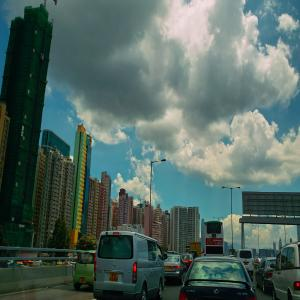Vehicle-registration-plate: (110, 274, 119, 282)
